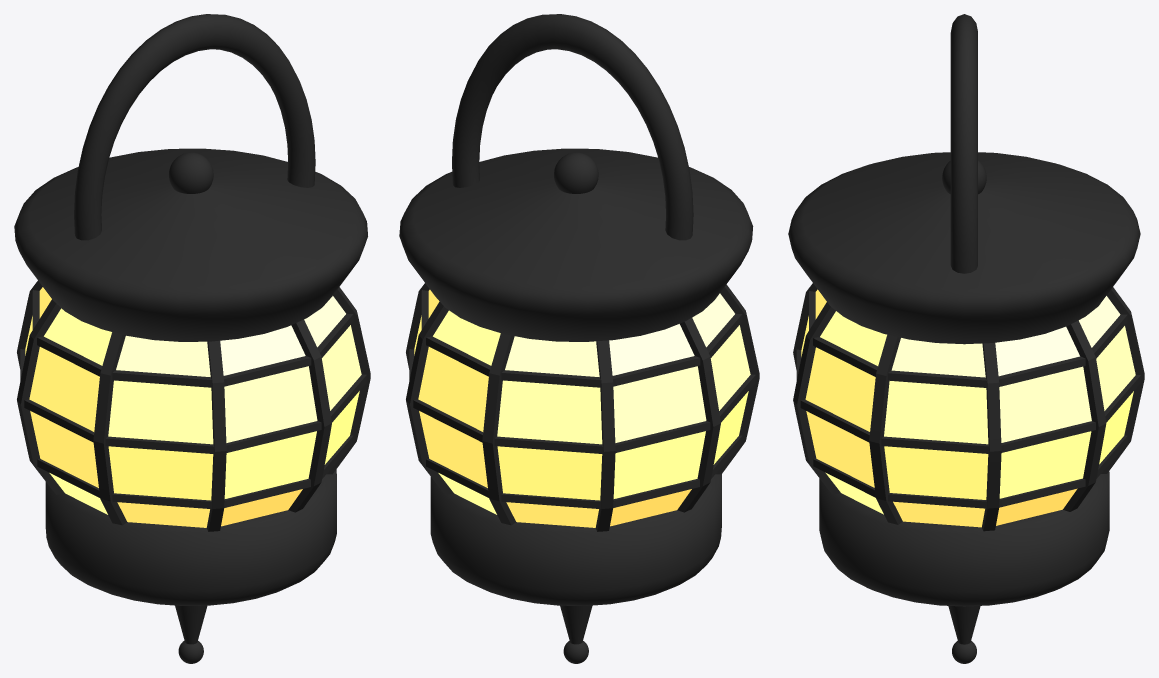
The model's file is gal-b-lantern-4120.high.glb.
3 renders of one model, left to right at view 1: azimuth 30°, elevation 25°; view 2: azimuth 150°, elevation 25°; view 3: azimuth 270°, elevation 25°, orthographic.
Parts seen in each view (by area): view 1: Hanging_Lantern; view 2: Hanging_Lantern; view 3: Hanging_Lantern.
Part boxes in pixels (left/top/right/bottom): Hanging_Lantern: left=14, top=14, right=370, bottom=663; Hanging_Lantern: left=399, top=14, right=759, bottom=663; Hanging_Lantern: left=788, top=14, right=1144, bottom=663.
Size of the model in its own units: 0.2875 by 0.5698 by 0.287.
